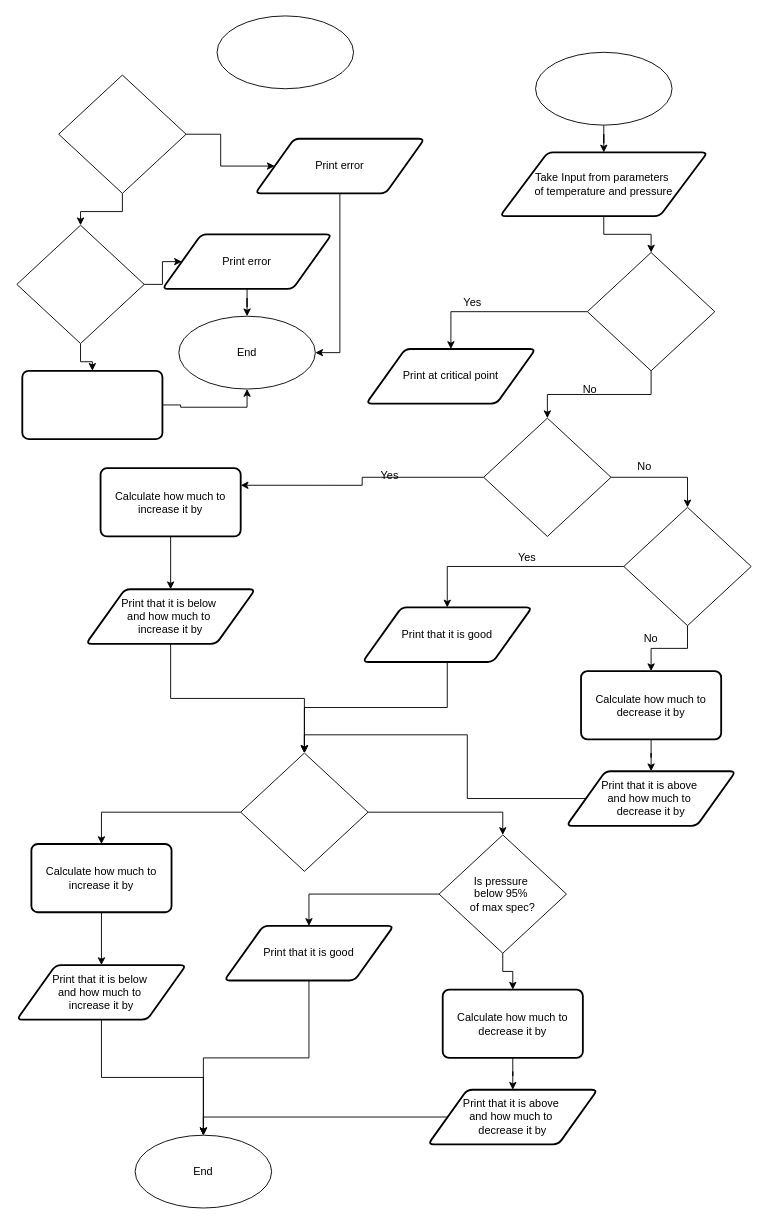
This 767x1224 diagram has some shape labels left out. Here are the shapes that lost their labels. From the top down, the centre of each, then its label:
point 285,52: Start
point 603,88: Def Check Status
point 122,133: Is temp below 0
point 80,284: Is pressure below 0
point 650,311: Is both temp and pressure equal to critical temp and pressure?
point 92,404: Check Status
point 547,476: Is temp below critical temp?
point 687,566: Is temp below 95% of max spec?
point 304,811: Is pressure below critical pressure?
